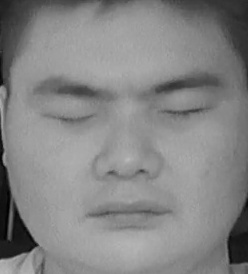blink: (43, 103, 98, 135), (164, 96, 211, 127)
mouth: (82, 191, 173, 238)
